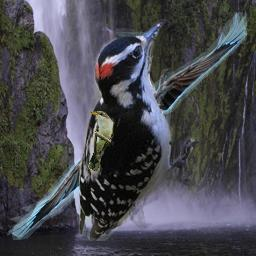Crow: (7, 12, 252, 240)
Cuckoo: (88, 111, 114, 171)
Woodpecker: (79, 19, 199, 241)
